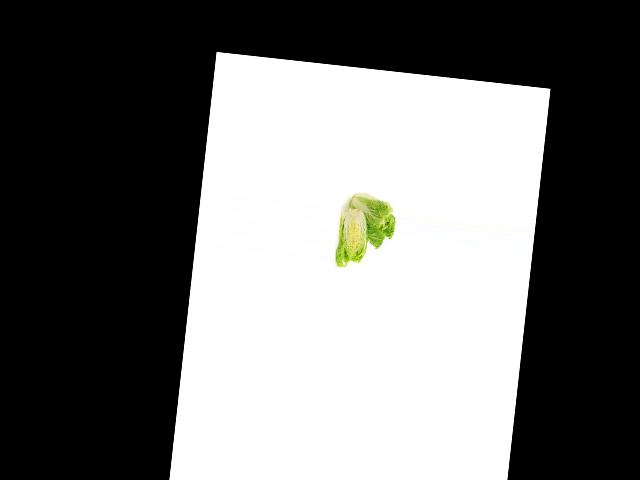lettuce: (341, 190, 400, 254)
